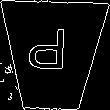P_S: (31, 29, 75, 81)
